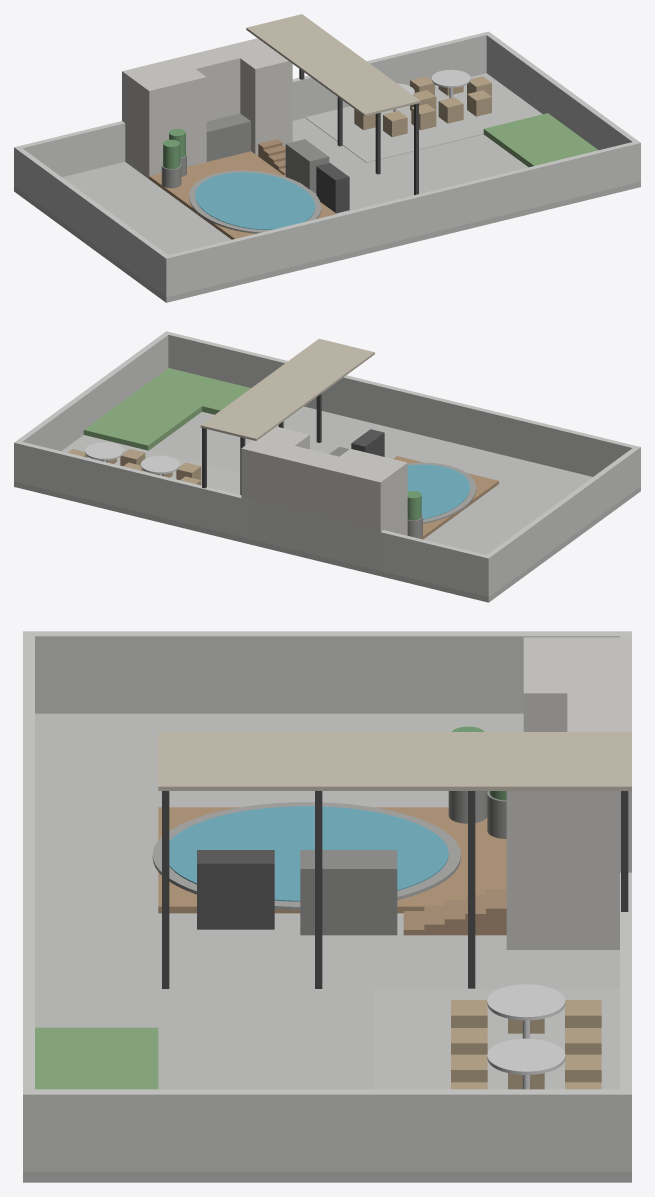
Rendered from rooftop.glb.
The picture shows the model from 3 angles, top to bottom: view 1: azimuth 30°, elevation 25°; view 2: azimuth 150°, elevation 25°; view 3: azimuth 270°, elevation 25°; orthographic projection. The views are drawn at different scales.
Visible parts, largest first — view 1: parapet_01, floor_00, parapet_02, awning_24, parapet_03, lounge_29, rooms_07, parapet_04, water_12, rooms_05, rooms_08, garden_46 (+14 smaller); view 2: floor_00, parapet_02, parapet_01, rooms_05, awning_24, parapet_03, parapet_04, garden_46, rooms_06, garden_47, water_12, lounge_29 (+8 smaller); view 3: floor_00, parapet_04, parapet_03, awning_24, lounge_29, water_12, rooms_08, rooms_06, counter_22, garden_47, deck_10, parapet_01 (+21 smaller).
Boxes of the visible parts, x1,y1,x2,y2 form: parapet_01: (163,142,640,297); floor_00: (14,118,640,302); parapet_02: (14,31,491,187); awning_24: (246,14,420,116); parapet_03: (14,146,171,296); lounge_29: (305,73,542,162); rooms_07: (138,69,206,178); parapet_04: (485,32,640,181); water_12: (195,172,315,229); rooms_05: (122,46,240,170); rooms_08: (240,50,292,155); garden_46: (483,113,598,167); floor_00: (14,406,640,602); parapet_02: (14,441,490,596); parapet_01: (163,331,640,476); rooms_05: (278,446,396,570); awning_24: (200,338,374,440); parapet_03: (483,447,640,596); parapet_04: (14,332,170,481); garden_46: (83,390,201,450); rooms_06: (241,437,294,545); garden_47: (138,368,250,414); water_12: (407,464,469,519); lounge_29: (62,435,240,494); floor_00: (23,713,631,1182); parapet_04: (23,1089,631,1171); parapet_03: (23,631,631,713); awning_24: (158,732,631,790); lounge_29: (374,988,619,1089); water_12: (169,806,448,901); rooms_08: (506,791,567,949); rooms_06: (567,791,631,949); counter_22: (300,850,397,935); garden_47: (35,1027,158,1089); deck_10: (158,807,506,913); parapet_01: (23,631,34,1171).
Size of the model in its own units: 13.72 by 2.96 by 7.62.
